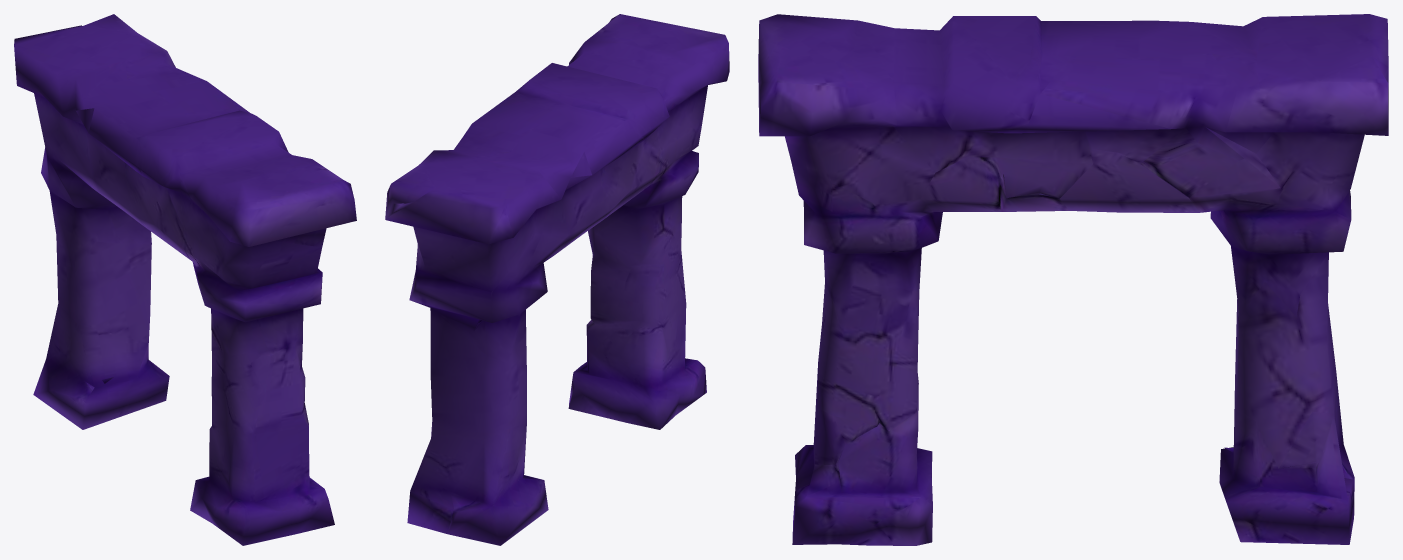
The model's file is spawnGate.glb.
The picture shows the model from 3 angles, left to right: view 1: azimuth 30°, elevation 25°; view 2: azimuth 150°, elevation 25°; view 3: azimuth 270°, elevation 25°; orthographic projection. The views are drawn at different scales.
Parts seen in each view (by area): view 1: tripo_node_e932e8c7-b022-4fbf-bc31-d87ec60d9f17; view 2: tripo_node_e932e8c7-b022-4fbf-bc31-d87ec60d9f17; view 3: tripo_node_e932e8c7-b022-4fbf-bc31-d87ec60d9f17.
Boxes of the visible parts, x1,y1,x2,y2 form: tripo_node_e932e8c7-b022-4fbf-bc31-d87ec60d9f17: [14, 14, 356, 545]; tripo_node_e932e8c7-b022-4fbf-bc31-d87ec60d9f17: [385, 14, 729, 545]; tripo_node_e932e8c7-b022-4fbf-bc31-d87ec60d9f17: [758, 14, 1388, 545].
Bounding box in the file's own units: 0.3115 × 0.813 × 0.9988.
Materials: 1 (1 with a texture image).
